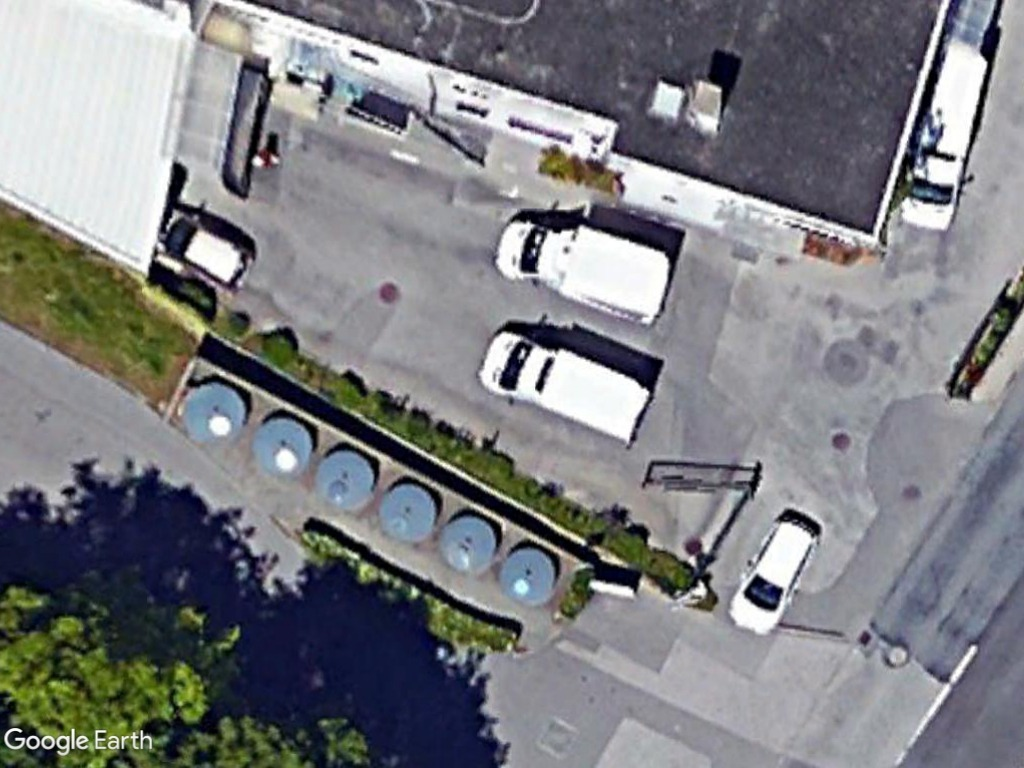car: (722, 510, 824, 641)
truck: (466, 323, 656, 447), (495, 209, 678, 331)
